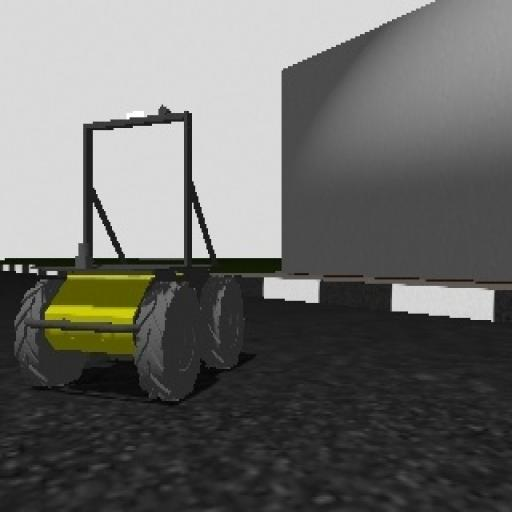huskya200: (12, 80, 262, 400)
